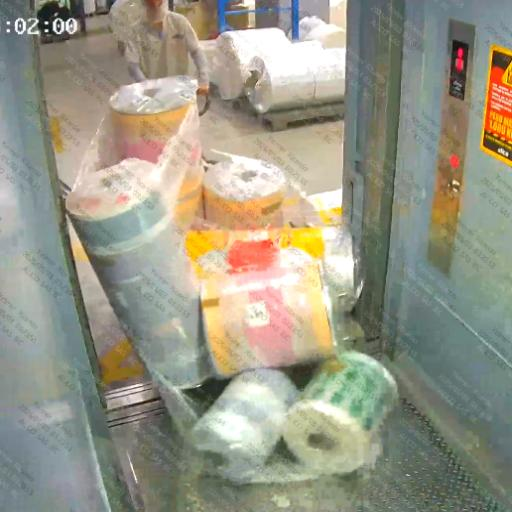rollos caidos: (154, 258, 433, 507)
